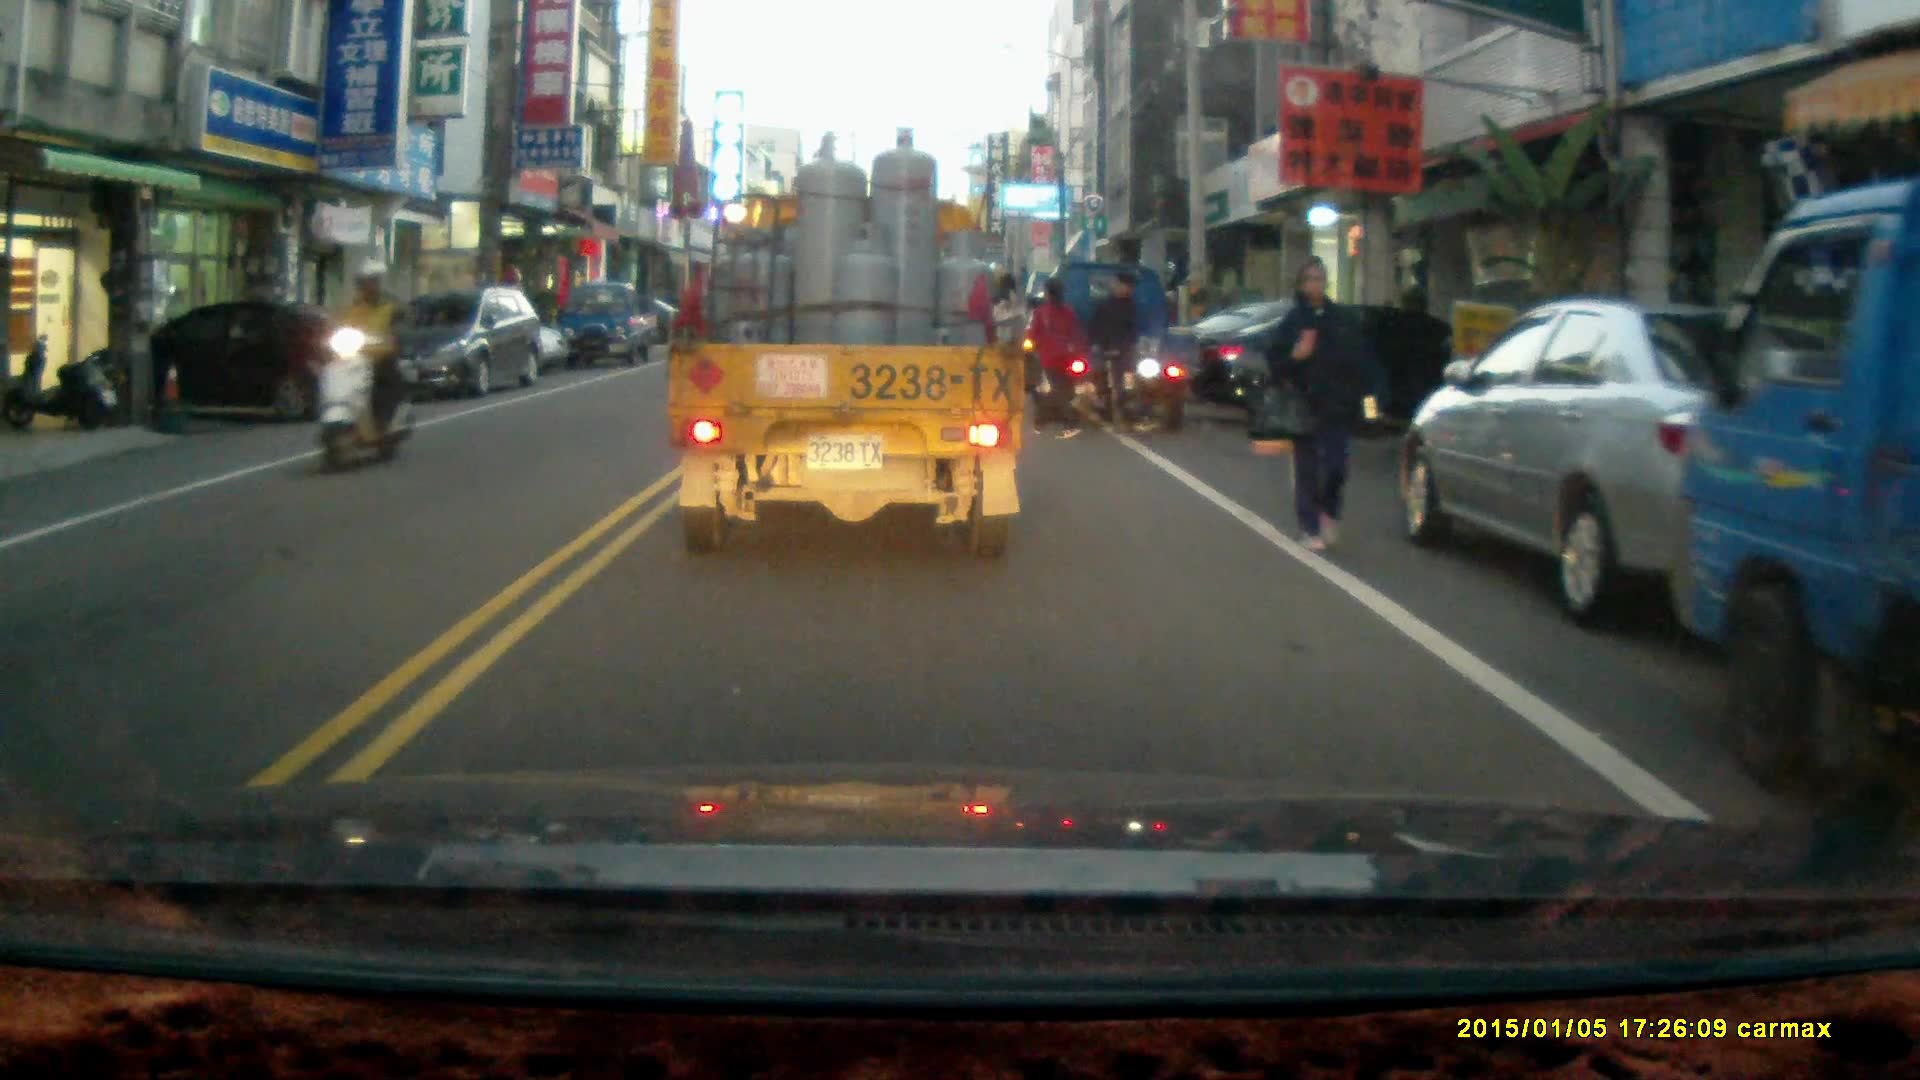pedestrian: (1264, 258, 1367, 552), (1086, 270, 1158, 436), (1023, 274, 1085, 436)
rider: (313, 256, 414, 477)
vehicle: (666, 125, 1030, 567), (1408, 299, 1848, 630), (1673, 200, 1920, 787), (1180, 297, 1504, 452), (58, 297, 390, 425), (1029, 261, 1206, 430), (376, 284, 546, 401), (560, 279, 660, 370)
